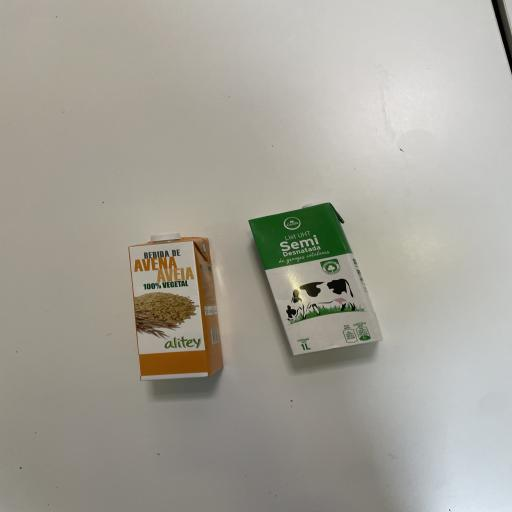milk: (241, 202, 394, 359)
oat_milk: (117, 228, 222, 384)
